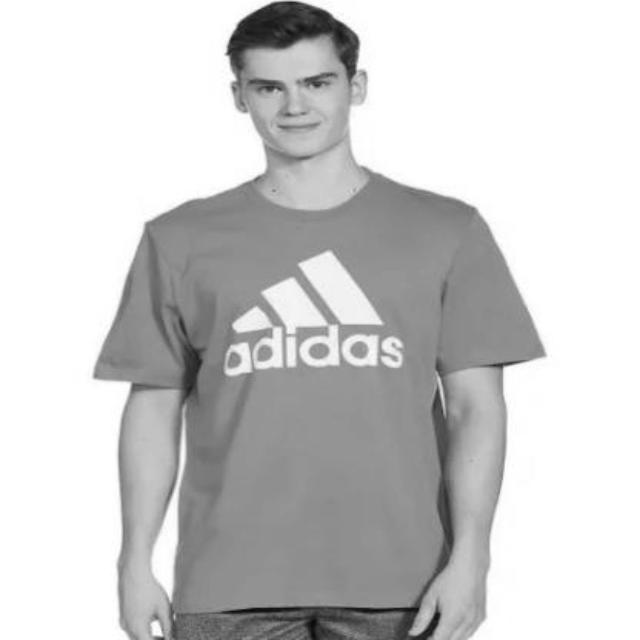ADIDAS_original: (212, 233, 412, 391)
